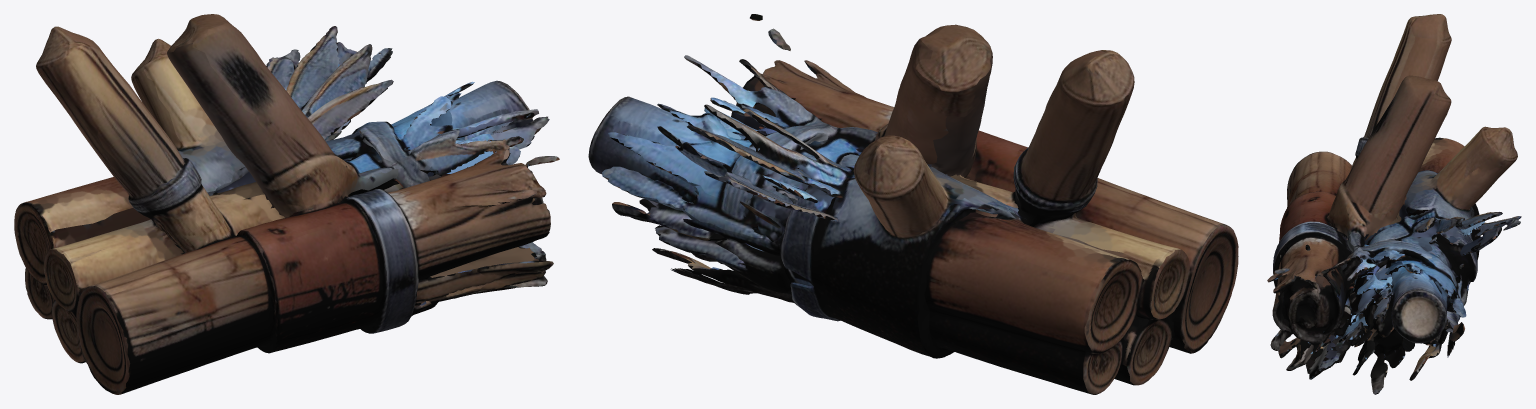
File: catalog-arrow-1-12.glb
3 views of the same model, side by side, from view 1: azimuth 30°, elevation 25°; view 2: azimuth 150°, elevation 25°; view 3: azimuth 270°, elevation 25° (orthographic). The views are drawn at different scales.
Parts seen in each view (by area): view 1: tmppkev55t1.ply; view 2: tmppkev55t1.ply; view 3: tmppkev55t1.ply.
Part boxes in pixels (bbox=[...]): tmppkev55t1.ply: bbox=[14, 14, 559, 394]; tmppkev55t1.ply: bbox=[588, 14, 1238, 394]; tmppkev55t1.ply: bbox=[1267, 14, 1521, 394].
Bounding box in the file's own units: 1.95 × 1.17 × 1.16.
Materials: 1 (1 with a texture image).
